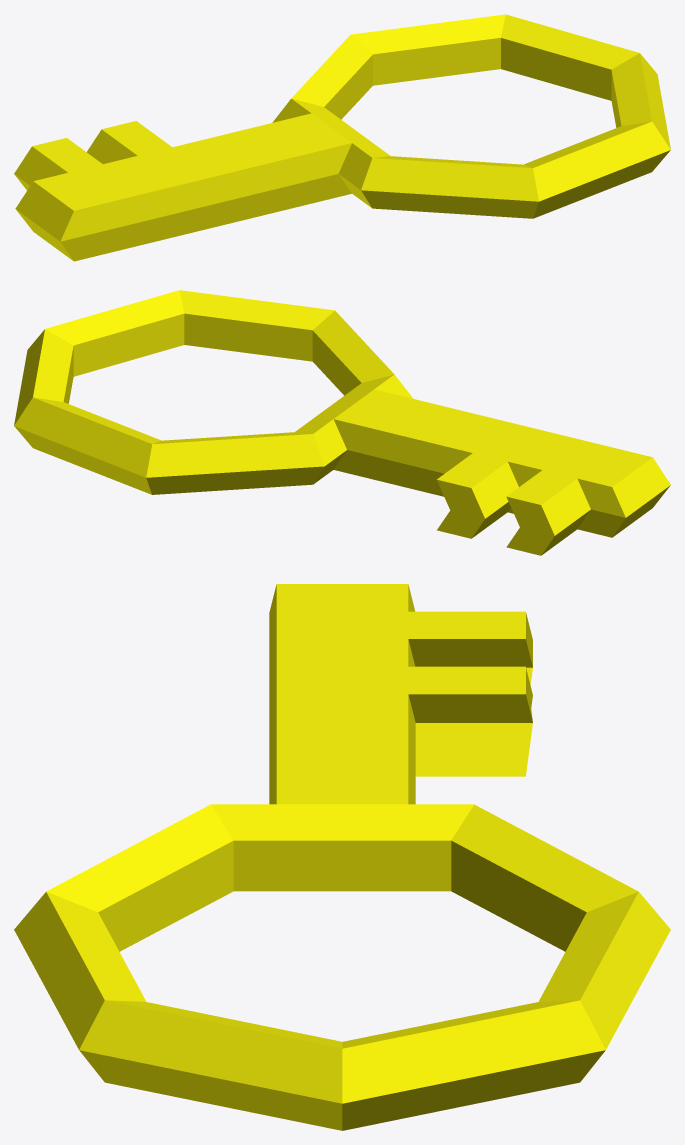
The model's file is keyPrototype.fbx.
The picture shows the model from 3 angles, top to bottom: view 1: azimuth 30°, elevation 25°; view 2: azimuth 150°, elevation 25°; view 3: azimuth 270°, elevation 25°; orthographic projection. The views are drawn at different scales.
Visible parts, largest first — view 1: Torus.001; view 2: Torus.001; view 3: Torus.001.
Boxes of the visible parts, x1=… form: Torus.001: x1=14, y1=14, x2=670, y2=261; Torus.001: x1=14, y1=290, x2=670, y2=555; Torus.001: x1=14, y1=584, x2=670, y2=1130.
Bounding box in the file's own units: 402 × 31.38 × 227.
